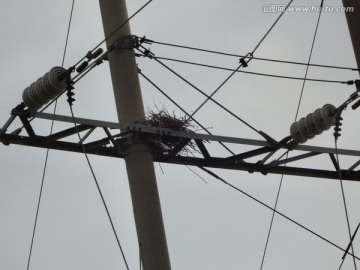bird-nest: (146, 116, 192, 150)
